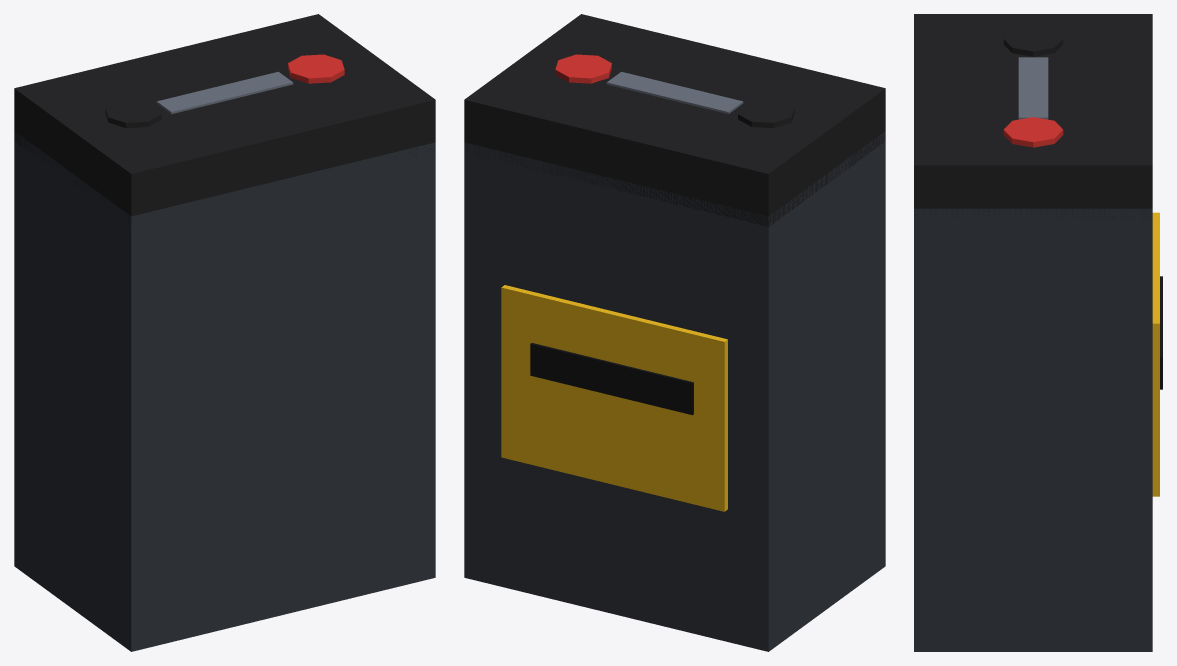
File: prop_lift_battery.glb
3 views of the same model, side by side, from view 1: azimuth 30°, elevation 25°; view 2: azimuth 150°, elevation 25°; view 3: azimuth 270°, elevation 25° (orthographic).
Visible parts, largest first — view 1: prop_lift_battery; view 2: prop_lift_battery; view 3: prop_lift_battery.
Boxes of the visible parts, x1=… form: prop_lift_battery: x1=14, y1=14, x2=435, y2=651; prop_lift_battery: x1=464, y1=14, x2=885, y2=651; prop_lift_battery: x1=914, y1=14, x2=1162, y2=651.
Bounding box in the file's own units: 0.3 × 0.455 × 0.2085.
Materials: 1 (1 with a texture image).
